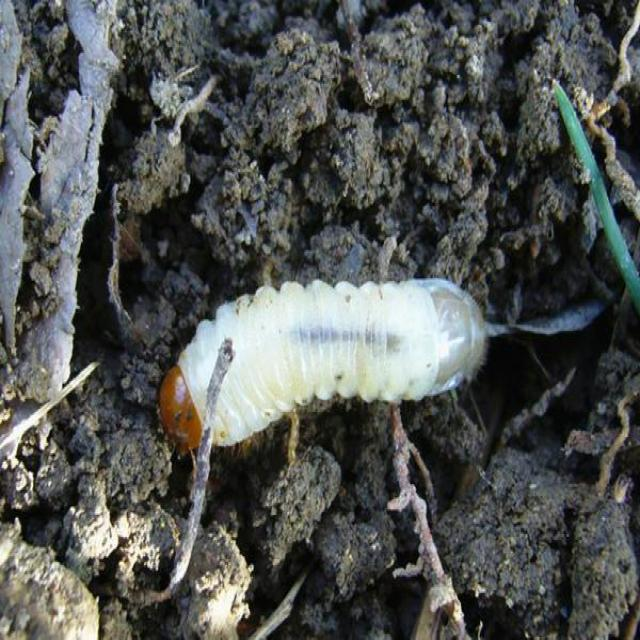Grub-Adult-: (153, 268, 501, 441)
